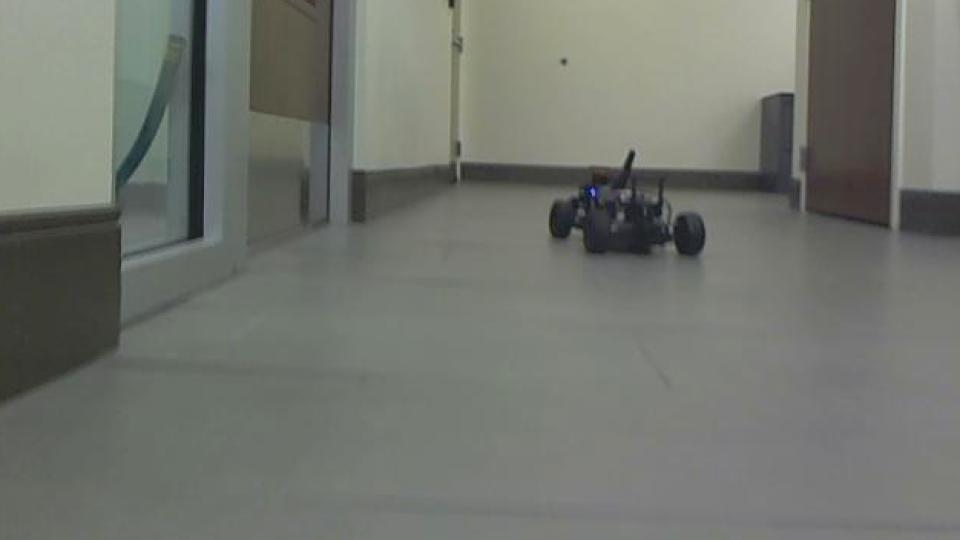car: (544, 146, 708, 261)
